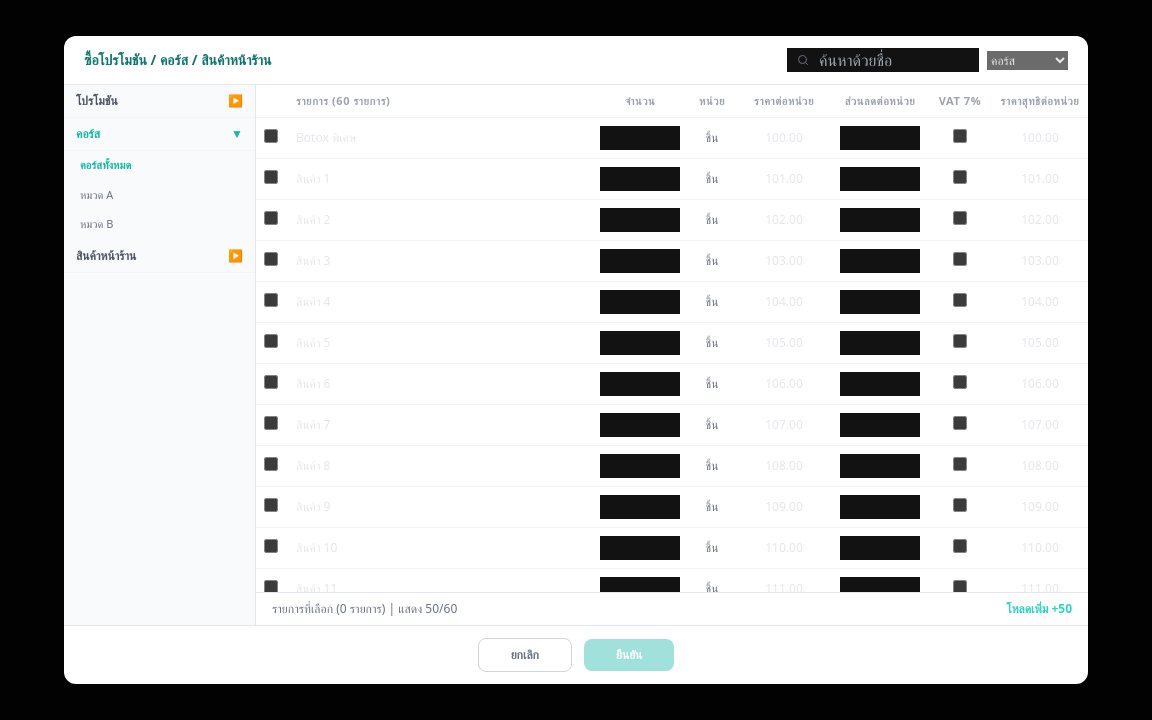
Test: K2 — standalone modal behavior (RTL) › K2.4 category pick narrows the list (sidebar state modal-internal)
The image size is (1152, 720).
Click the button "หมวด A": (160, 195) [64,180,255,210]
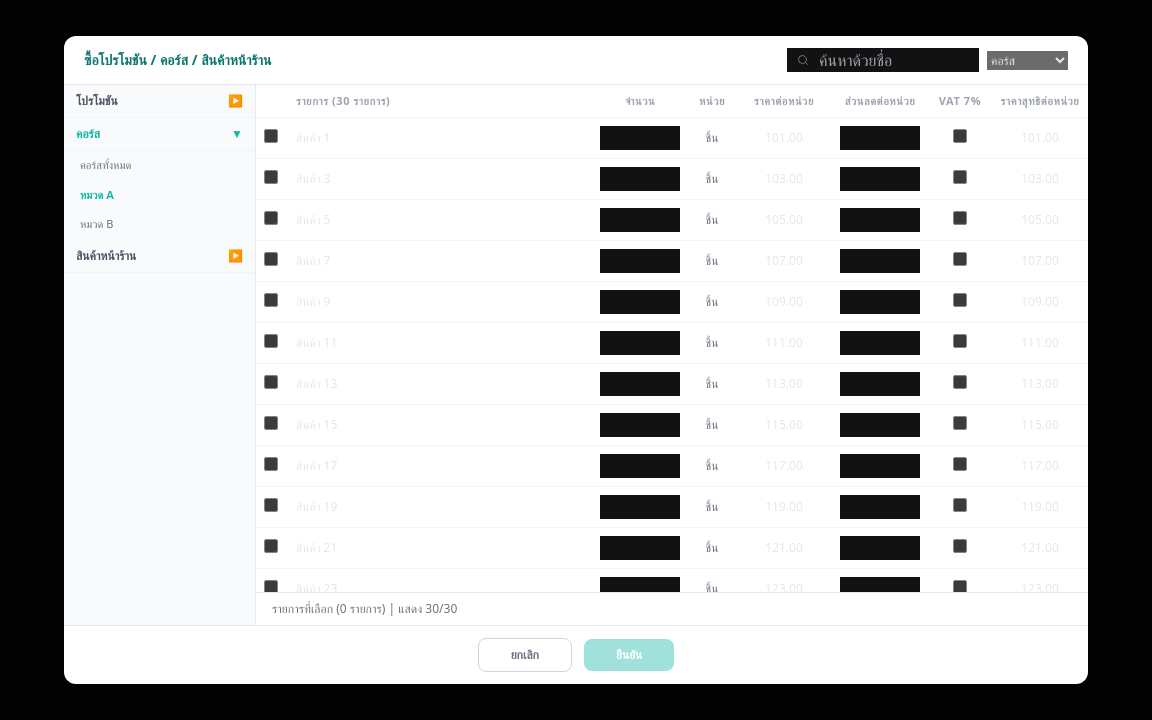
Expected: the column heading "รายการ (30 รายการ)" is shown, [288,85,592,118]
